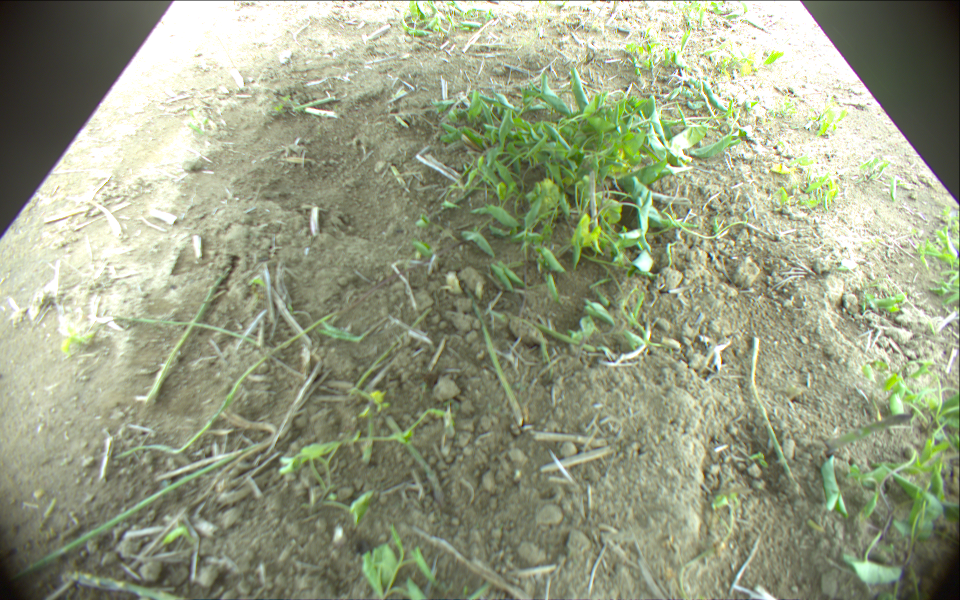aspa: (1, 441, 268, 590), (147, 264, 233, 409), (459, 276, 526, 424), (750, 337, 797, 484), (824, 413, 913, 453), (589, 170, 600, 232)
